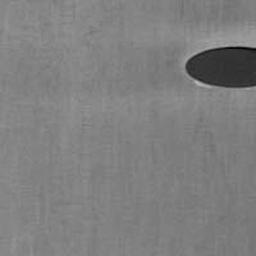Punching: (184, 45, 256, 90)
